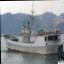fishing boat: (1, 4, 61, 56)
